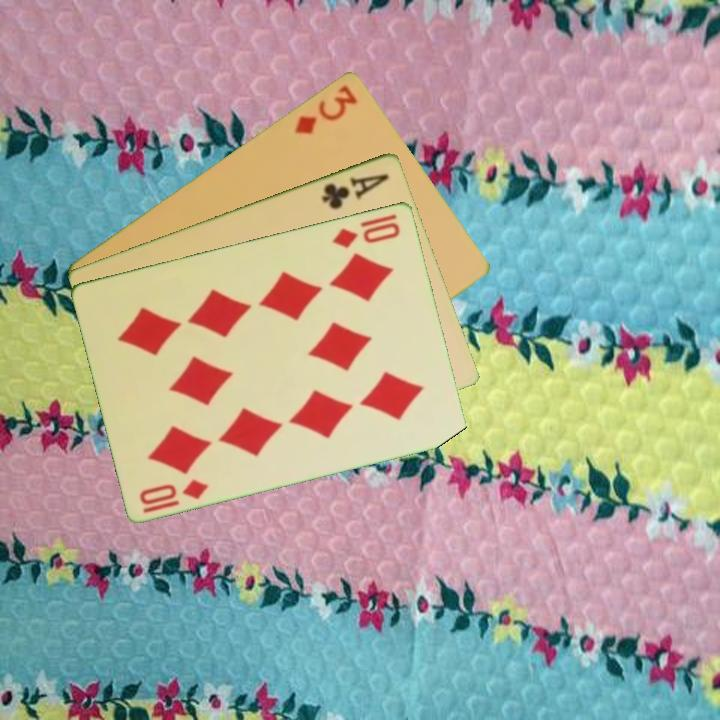10d: (136, 475, 212, 516), (329, 218, 404, 251)
3d: (290, 80, 361, 137)
Ac: (318, 169, 393, 212)
